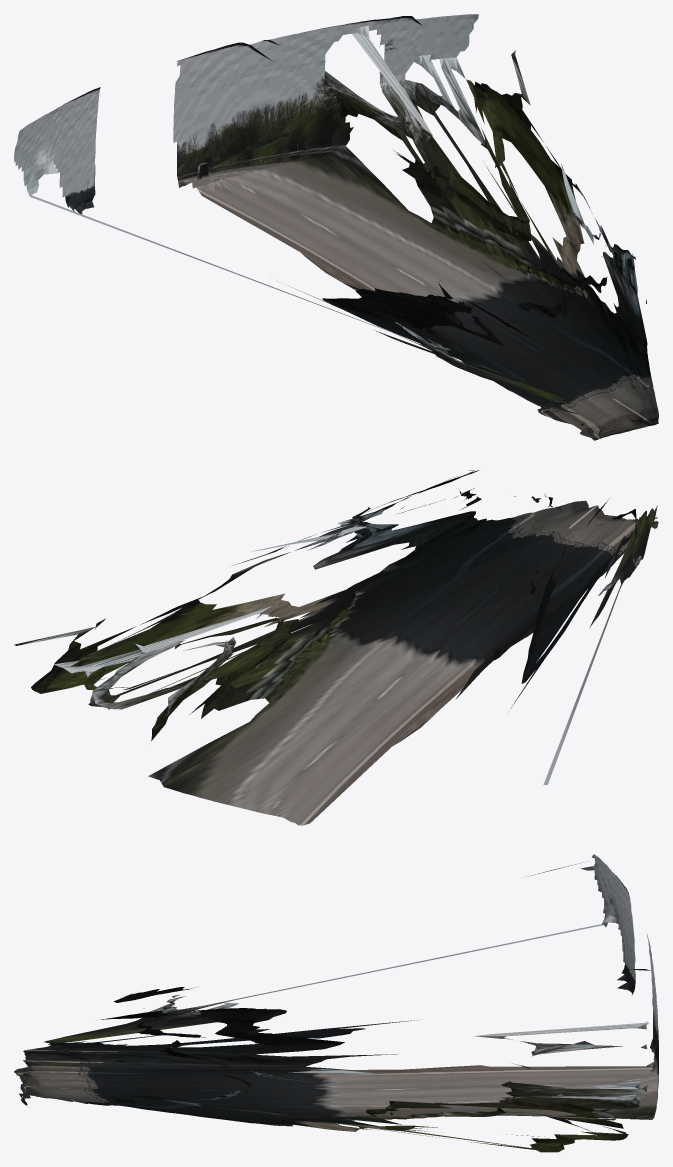
3 views of the same model, one above another, from view 1: azimuth 30°, elevation 25°; view 2: azimuth 150°, elevation 25°; view 3: azimuth 270°, elevation 25° (orthographic). The views are drawn at different scales.
Parts seen in each view (by area): view 1: defaultobject; view 2: defaultobject; view 3: defaultobject.
Boxes of the visible parts, x1,y1,x2,y2 form: defaultobject: (14,14,658,440); defaultobject: (14,470,658,825); defaultobject: (14,854,658,1152).
Size of the model in its own units: 35.97 by 9.64 by 44.66.
Materials: 1 (1 with a texture image).
